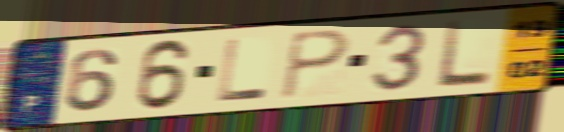3: (369, 22, 429, 95)
6: (134, 38, 192, 112), (66, 47, 120, 114)
L: (434, 18, 494, 91), (215, 37, 271, 104)
P: (279, 28, 353, 102)
